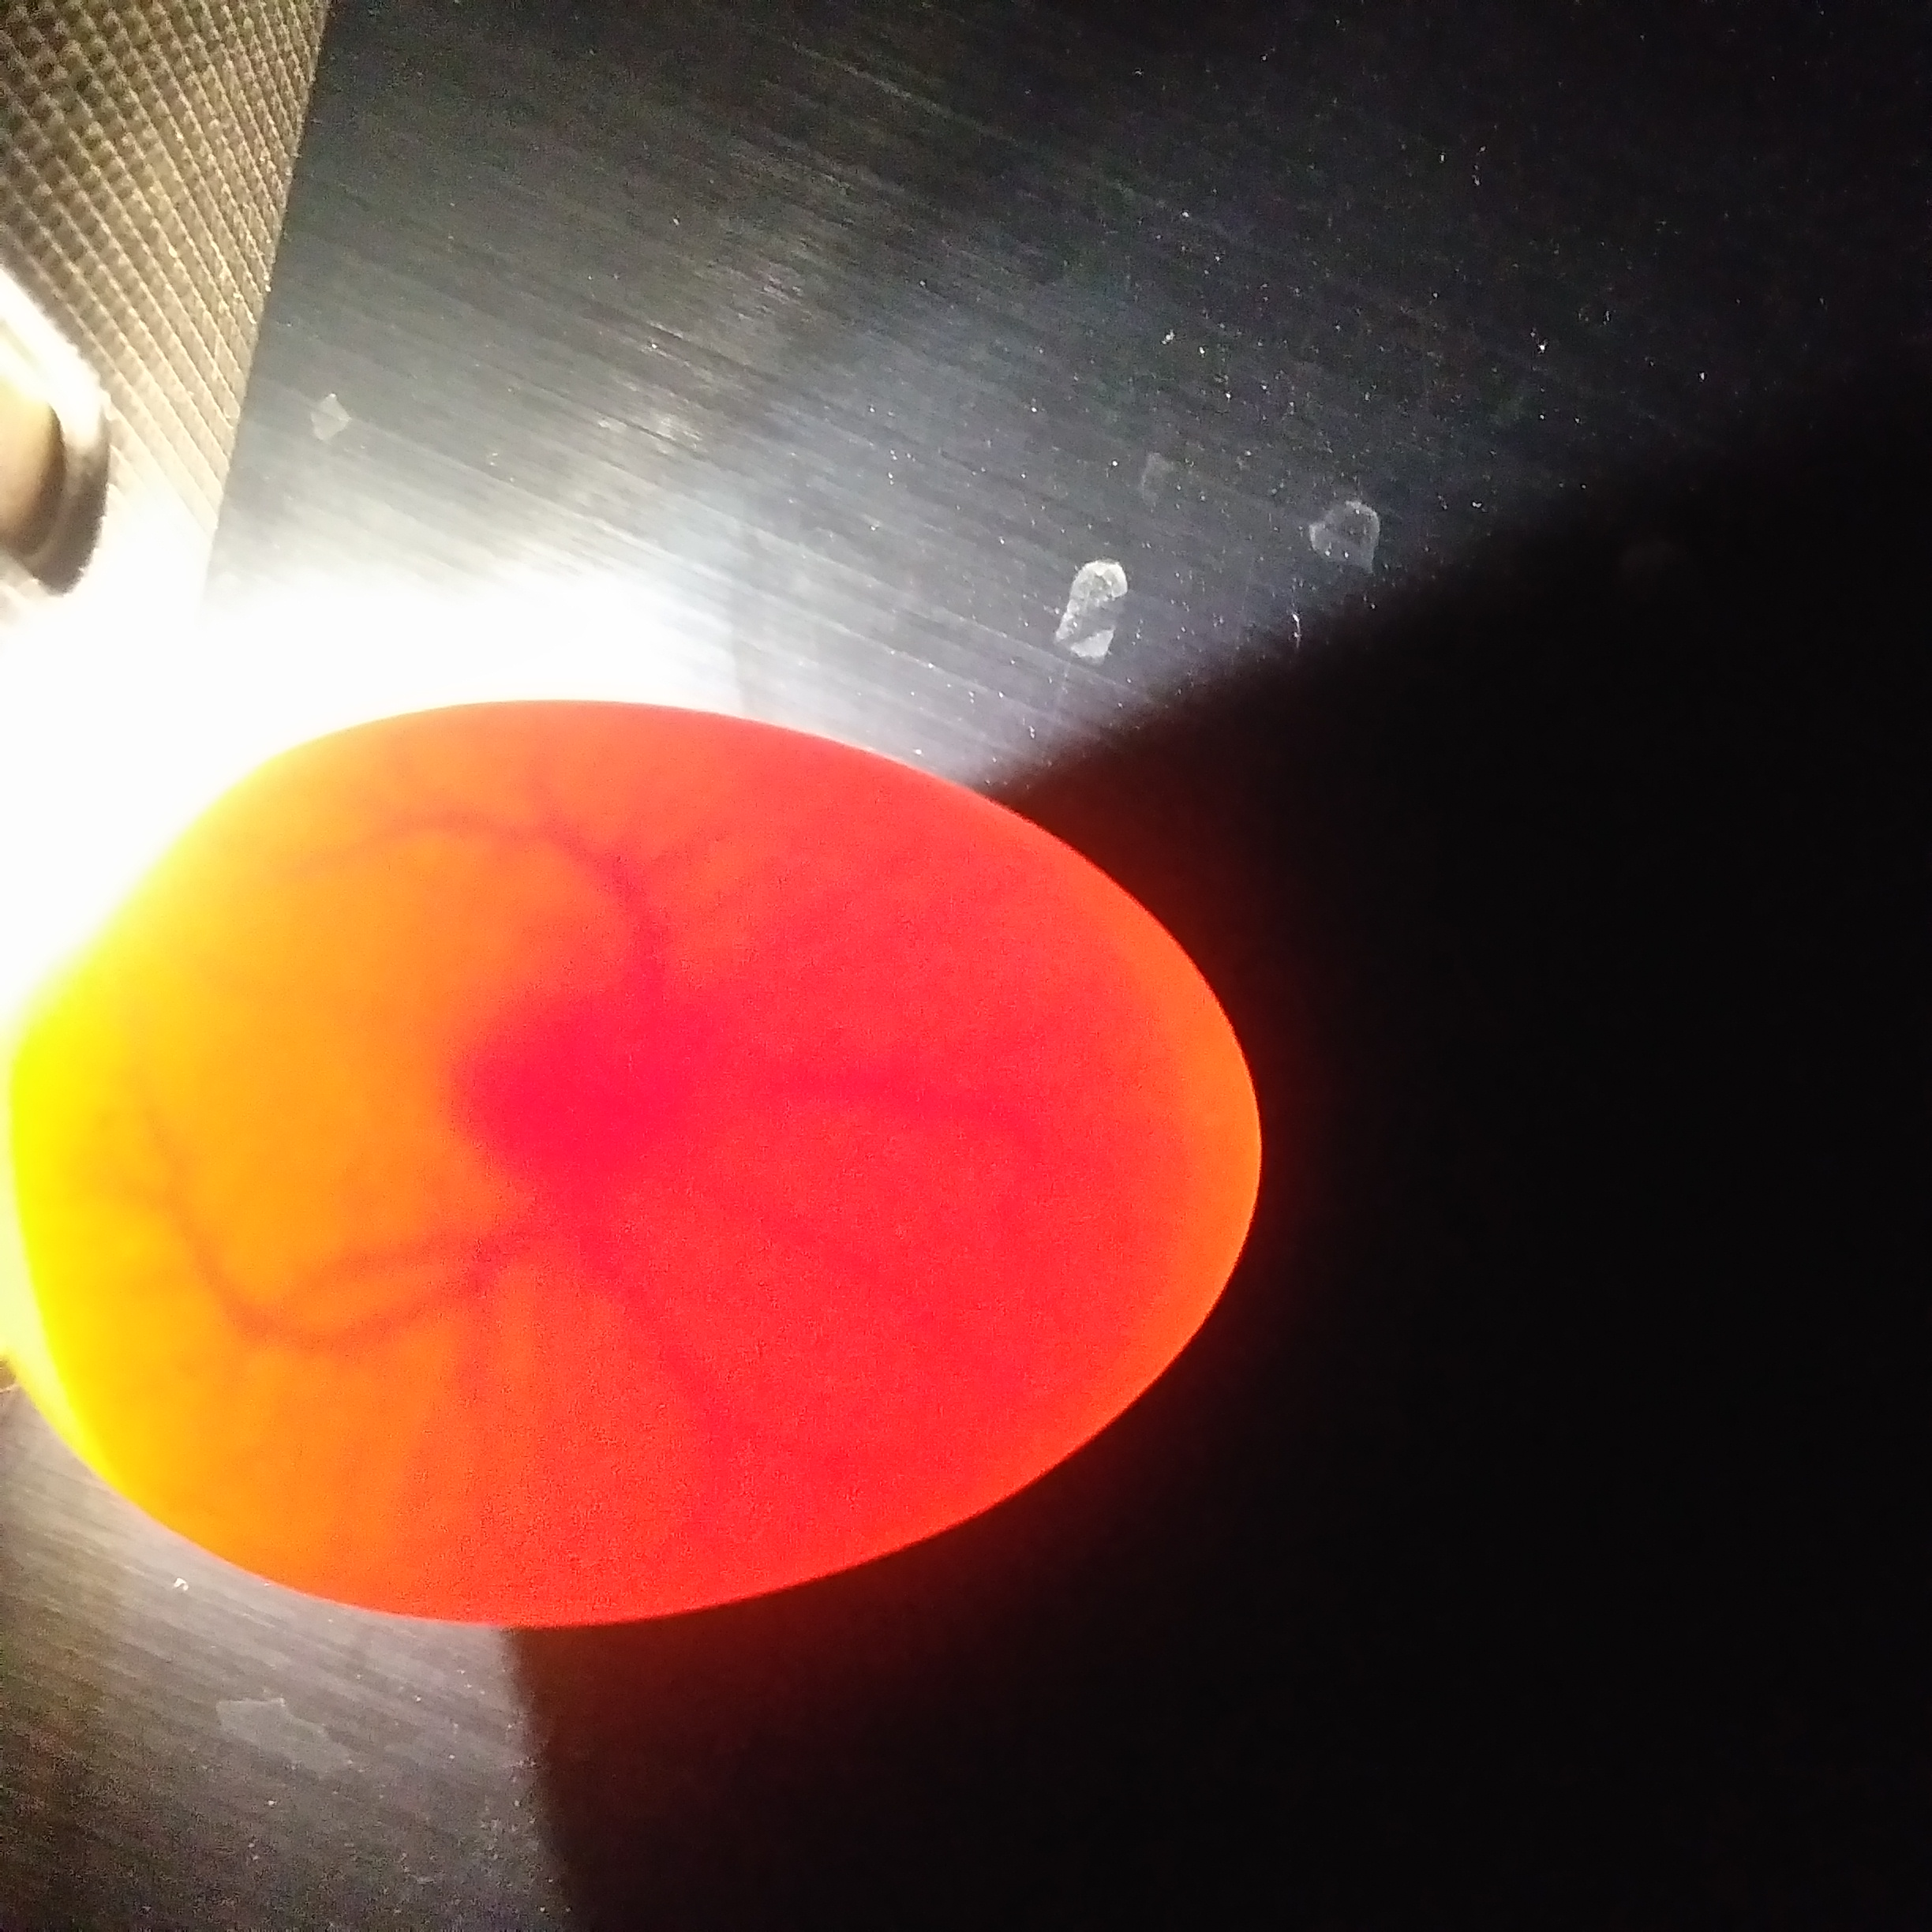bloodcell: (108, 1047, 433, 1442), (373, 757, 759, 943)
embryo: (448, 982, 717, 1214)
